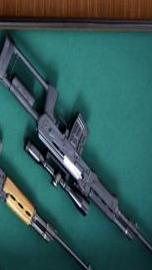gun: (1, 1, 152, 270)
